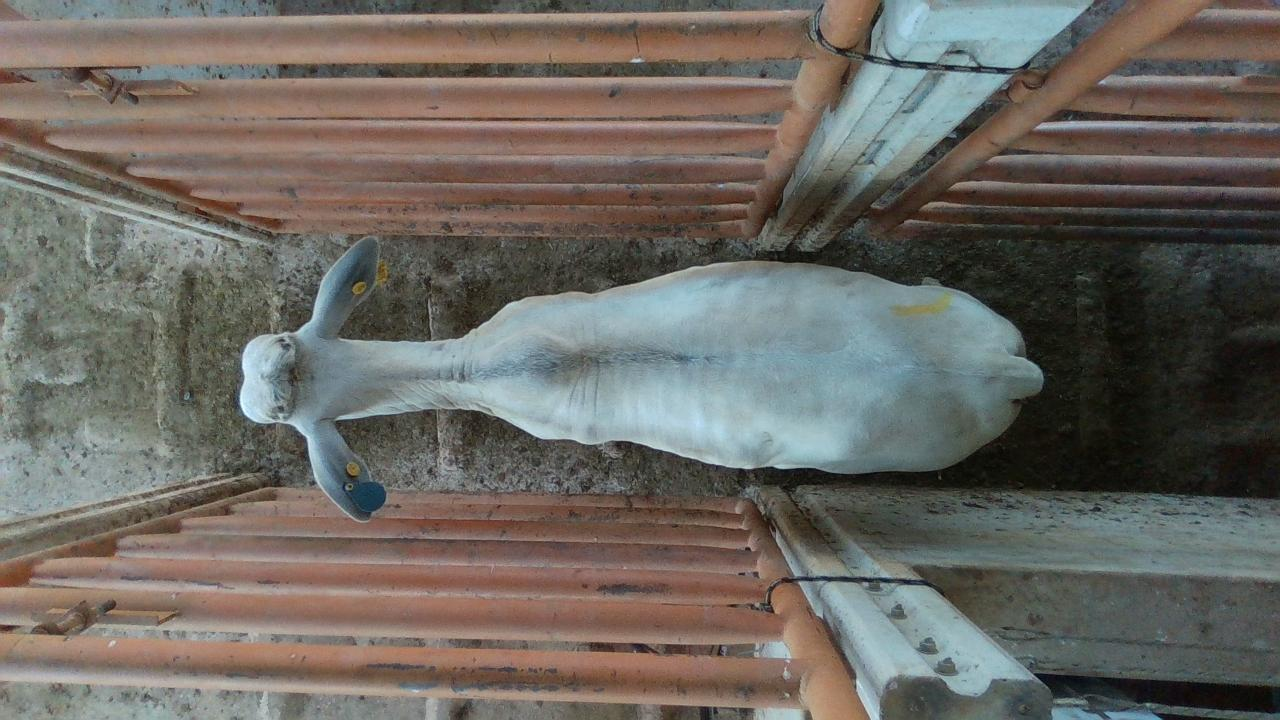cattle: (237, 234, 1044, 523)
